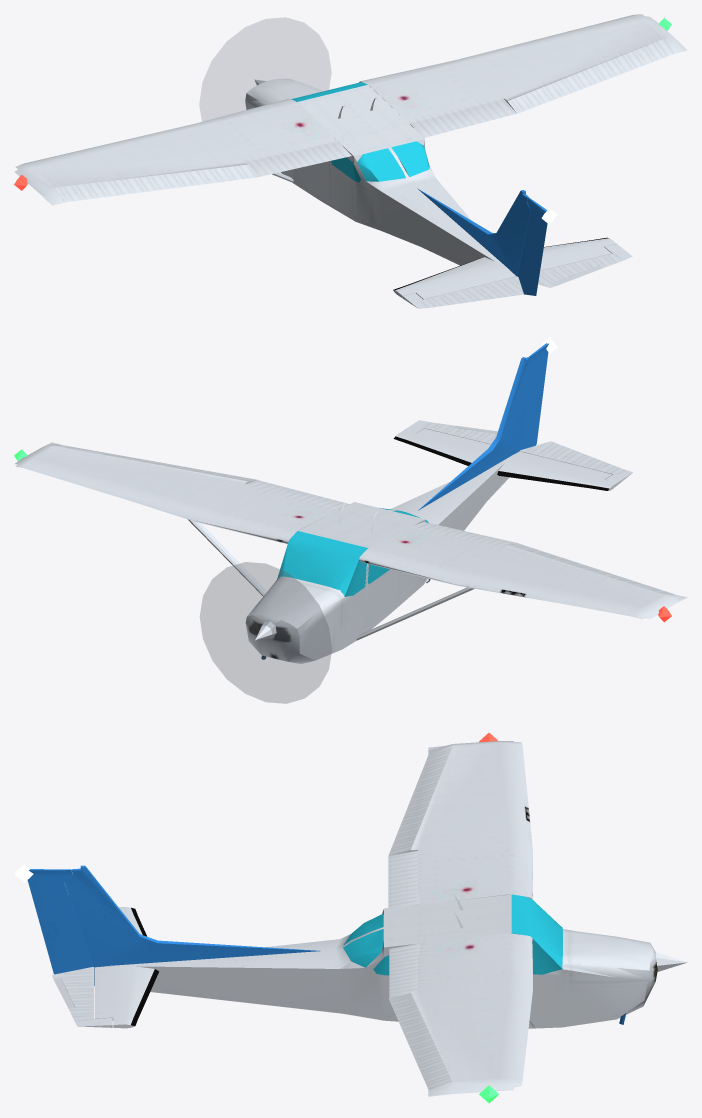
3 renders of one model, top to bottom at view 1: azimuth 30°, elevation 25°; view 2: azimuth 150°, elevation 25°; view 3: azimuth 270°, elevation 25°, orthographic. The views are drawn at different scales.
Parts seen in each view (by area): view 1: c172; view 2: c172; view 3: c172.
Part boxes in pixels (x1,y1,x2,y2): c172: (14, 14, 687, 308); c172: (14, 337, 687, 703); c172: (14, 732, 687, 1103).
Bounding box in the file's own units: 9.97 × 2.28 × 7.86.
Materials: 9 (4 with a texture image).
